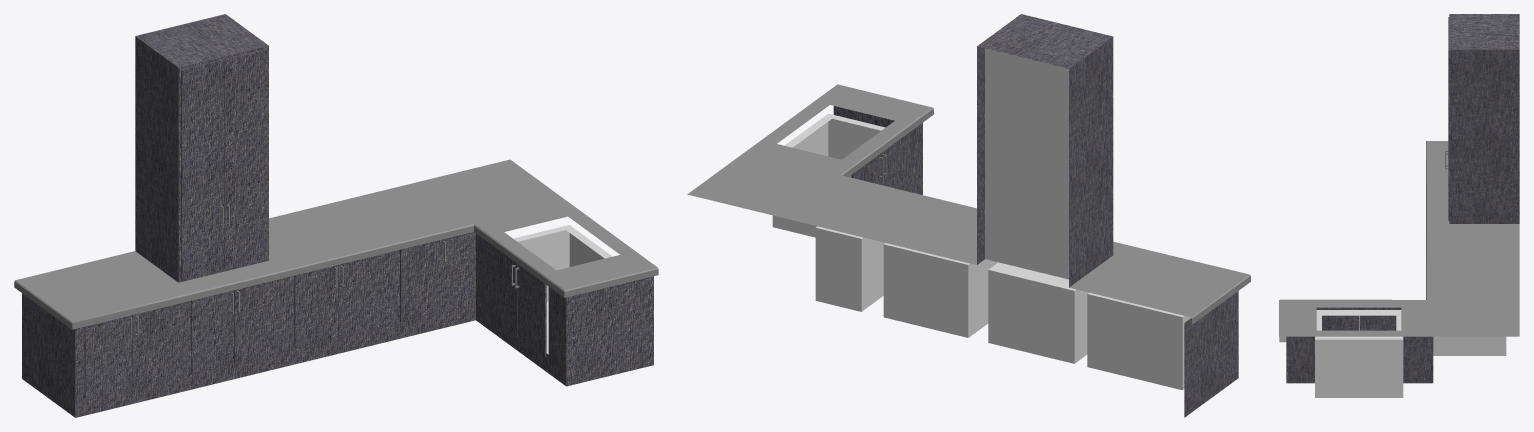
The model's file is KITCHEN_01.FBX.
The picture shows the model from 3 angles, left to right: view 1: azimuth 30°, elevation 25°; view 2: azimuth 150°, elevation 25°; view 3: azimuth 270°, elevation 25°; orthographic projection. The views are drawn at different scales.
Visible parts, largest first — view 1: KITCHEN_01_base, KITCHEN_01_closetDoor_11, KITCHEN_01_closetDoor_10, KITCHEN_01_closetDoor_01, KITCHEN_01_closetDoor_02, KITCHEN_01_closetDoor_07, KITCHEN_01_closetDoor_03, KITCHEN_01_closetDoor_04, KITCHEN_01_closetDoor_06, KITCHEN_01_closetDoor_05, KITCHEN_01_inside, KITCHEN_01_closetDoor_09 (+1 smaller); view 2: KITCHEN_01_base, KITCHEN_01_inside, KITCHEN_01_closetDoor_09, KITCHEN_01_closetDoor_08; view 3: KITCHEN_01_base, KITCHEN_01_inside, KITCHEN_01_closetDoor_09, KITCHEN_01_closetDoor_08, KITCHEN_01_closetDoor_11.
Part boxes in pixels (x1=…): KITCHEN_01_base: x1=14, y1=14, x2=658, y2=417; KITCHEN_01_closetDoor_11: x1=224, y1=49, x2=267, y2=269; KITCHEN_01_closetDoor_10: x1=181, y1=59, x2=224, y2=279; KITCHEN_01_closetDoor_01: x1=84, y1=315, x2=132, y2=398; KITCHEN_01_closetDoor_02: x1=132, y1=303, x2=180, y2=386; KITCHEN_01_closetDoor_07: x1=400, y1=238, x2=447, y2=321; KITCHEN_01_closetDoor_03: x1=191, y1=290, x2=234, y2=372; KITCHEN_01_closetDoor_04: x1=234, y1=279, x2=277, y2=362; KITCHEN_01_closetDoor_06: x1=294, y1=265, x2=337, y2=347; KITCHEN_01_closetDoor_05: x1=338, y1=254, x2=380, y2=336; KITCHEN_01_inside: x1=513, y1=225, x2=612, y2=354; KITCHEN_01_closetDoor_09: x1=515, y1=264, x2=546, y2=357; KITCHEN_01_base: x1=687, y1=14, x2=1250, y2=417; KITCHEN_01_inside: x1=772, y1=48, x2=1190, y2=390; KITCHEN_01_closetDoor_09: x1=881, y1=132, x2=909, y2=191; KITCHEN_01_closetDoor_08: x1=851, y1=153, x2=883, y2=184; KITCHEN_01_base: x1=1279, y1=14, x2=1519, y2=383; KITCHEN_01_inside: x1=1315, y1=310, x2=1506, y2=397; KITCHEN_01_closetDoor_09: x1=1322, y1=315, x2=1359, y2=330; KITCHEN_01_closetDoor_08: x1=1359, y1=315, x2=1396, y2=330; KITCHEN_01_closetDoor_11: x1=1445, y1=34, x2=1449, y2=220.
Bounding box in the file's own units: 552 × 335 × 286.
2 materials, 1 textured.
